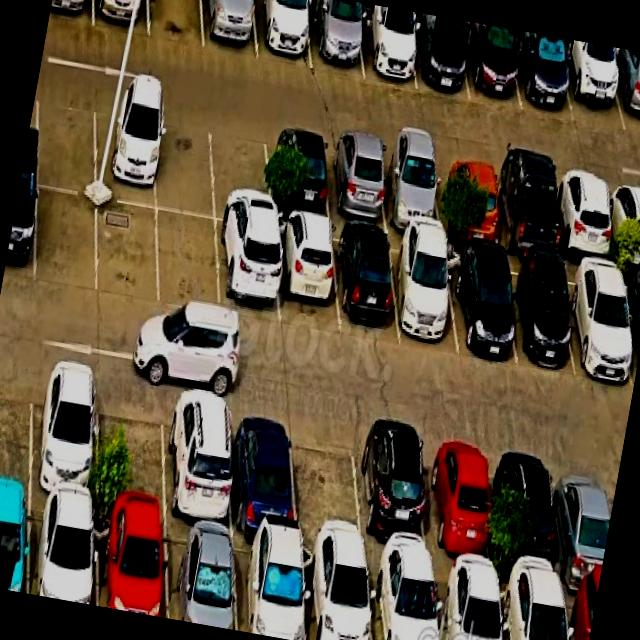empty: (291, 411, 364, 554), (98, 373, 166, 519), (209, 116, 271, 229), (156, 210, 220, 315), (35, 187, 97, 293), (36, 84, 95, 194), (98, 199, 158, 307), (156, 107, 214, 217), (0, 355, 32, 492), (148, 0, 203, 48)
occupied: (353, 421, 431, 565), (422, 430, 493, 577), (29, 360, 96, 506), (165, 385, 232, 531), (229, 397, 296, 539), (498, 442, 562, 586), (562, 262, 634, 383), (500, 256, 573, 370), (445, 248, 516, 365), (389, 236, 458, 355), (553, 452, 611, 591), (163, 522, 236, 630), (332, 226, 399, 341), (233, 534, 305, 640), (96, 510, 166, 618), (274, 217, 338, 334), (29, 497, 96, 605), (94, 95, 155, 208), (302, 545, 371, 640), (215, 222, 278, 326), (491, 163, 559, 259), (265, 126, 330, 220), (435, 154, 500, 247), (366, 560, 438, 640), (378, 143, 441, 234), (559, 42, 624, 130), (325, 135, 387, 227), (553, 172, 614, 262), (513, 30, 573, 120), (463, 22, 521, 109), (408, 17, 469, 99), (433, 567, 501, 640), (356, 7, 416, 88), (498, 578, 566, 640), (308, 0, 363, 76), (253, 0, 311, 68), (2, 179, 37, 284), (201, 0, 256, 59), (0, 492, 30, 593), (606, 179, 640, 266), (607, 49, 640, 133), (620, 270, 640, 379), (93, 0, 148, 35), (562, 587, 597, 640), (48, 0, 93, 25)
